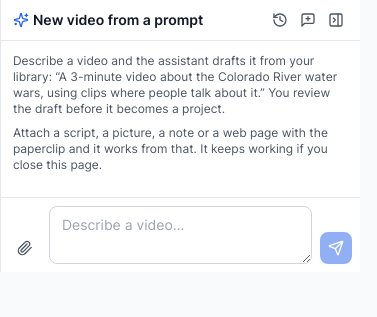
Test: AssistantPanel › points at Settings when no provider is set up
The width and height of the screenshot is (377, 317).
Type "a video" into the text box named "Ask the assistant" at {"x": 180, "y": 235}, box [49,206,312,264]
Then press Enter
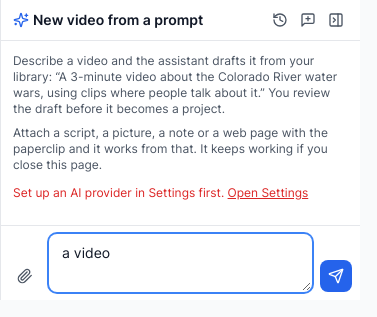
Result: the link "Open Settings" is shown at [228,185,308,200]
